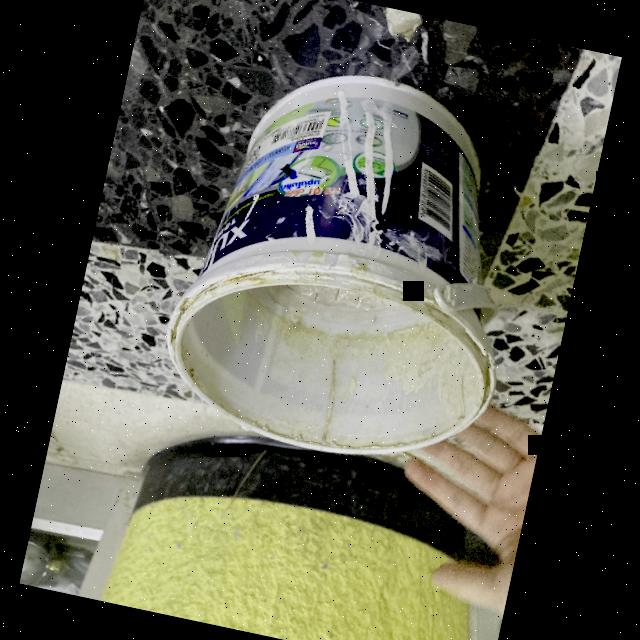paint_bucket: (147, 46, 553, 484)
